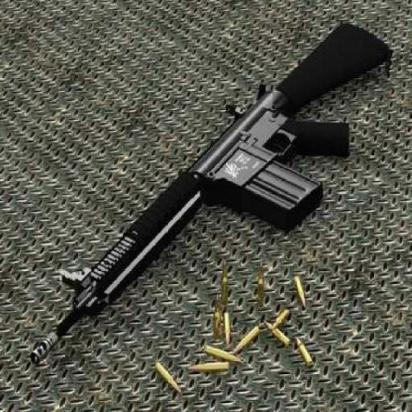Gun: (10, 10, 401, 384)
